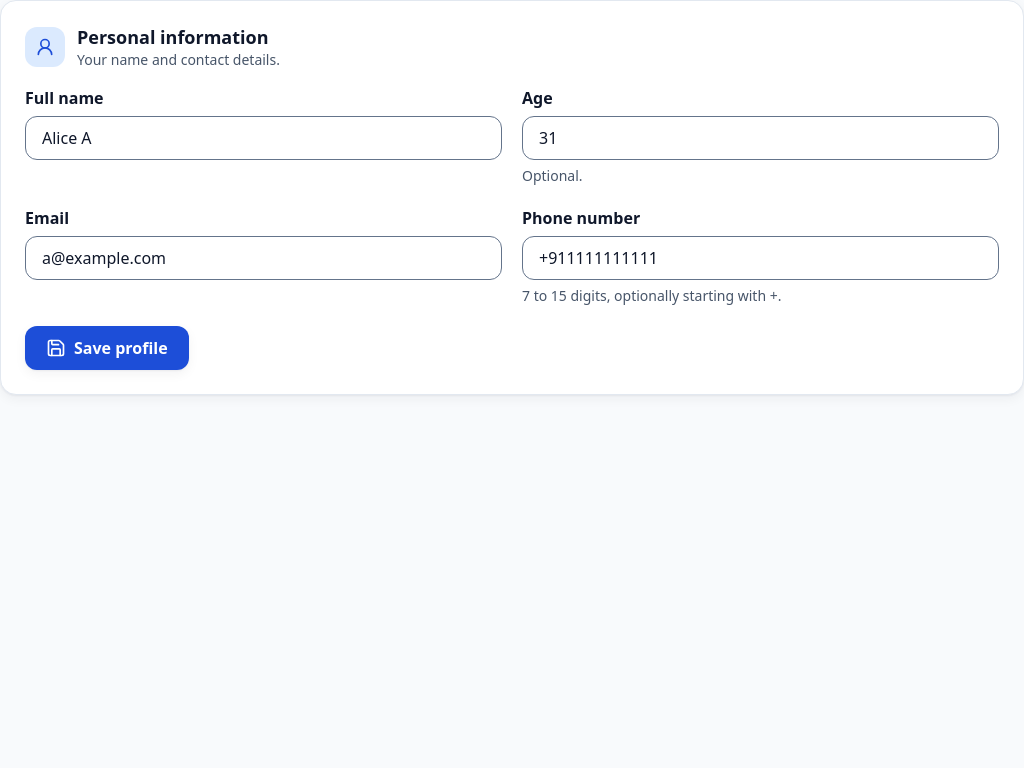
account data across sessions › a blank age is sent as null (the backend treats null as clearing the age)
Clear the field labelled "Age" at (760, 138), box [522,116,999,160]
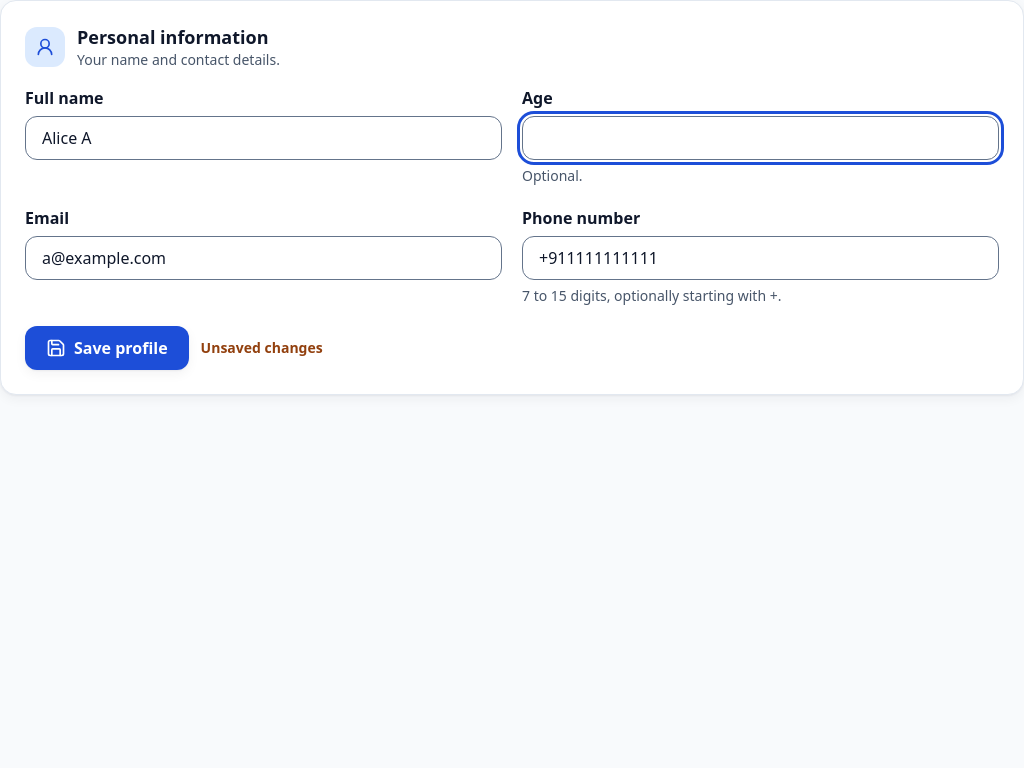
Click the button "Save profile".
click(107, 348)  # box [25,326,189,370]
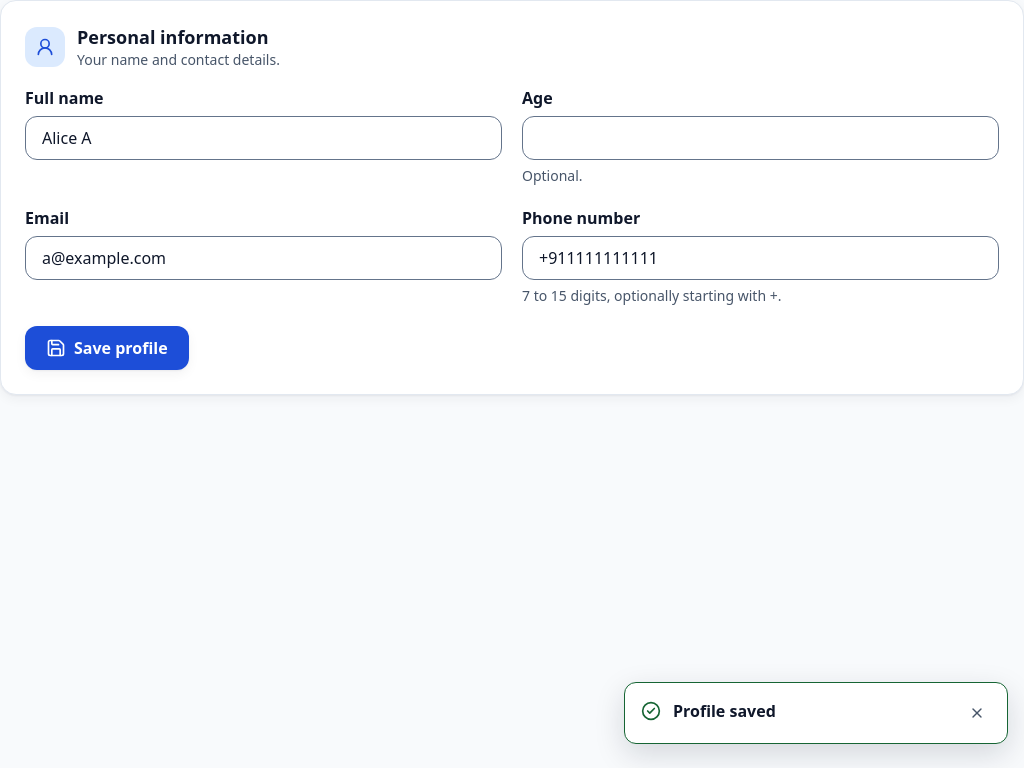
Expected: the text "Profile saved" is shown, [673,700,776,722]
